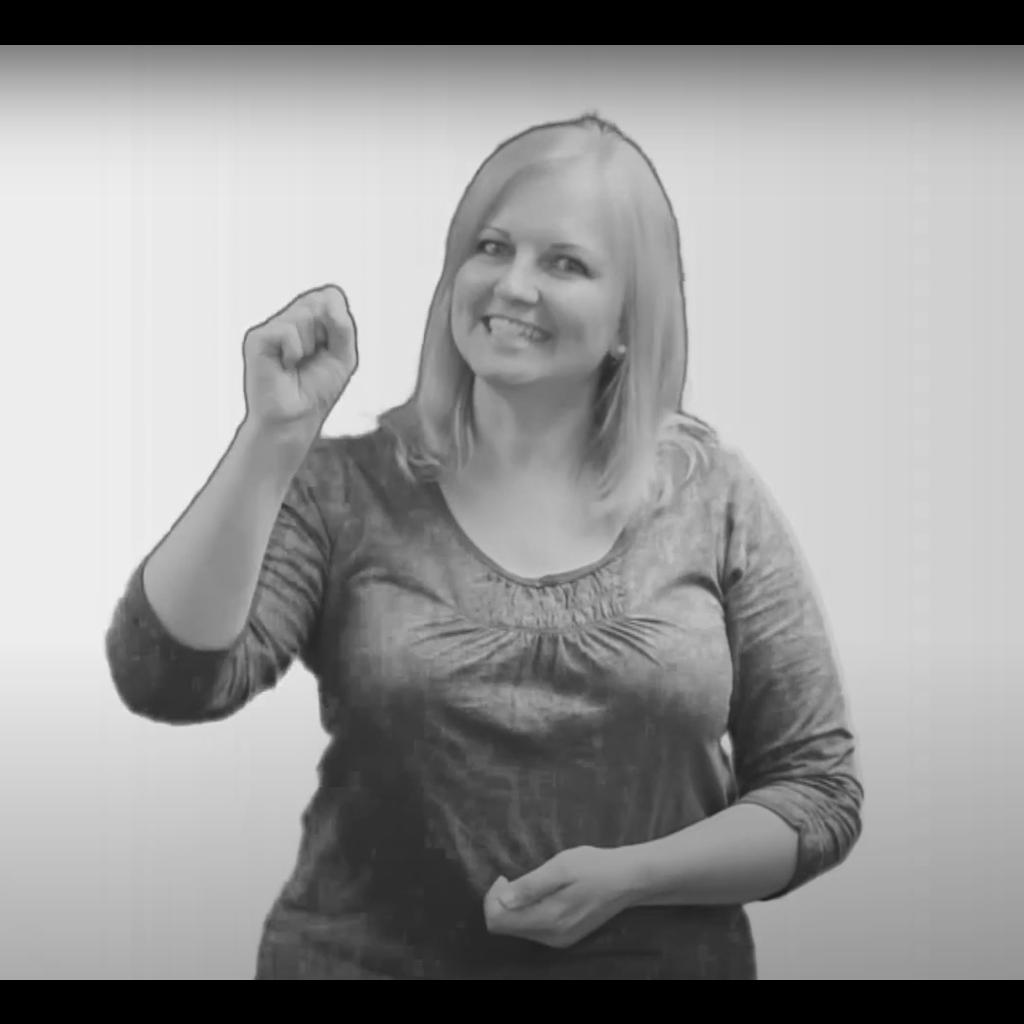yes: (243, 284, 359, 420)
